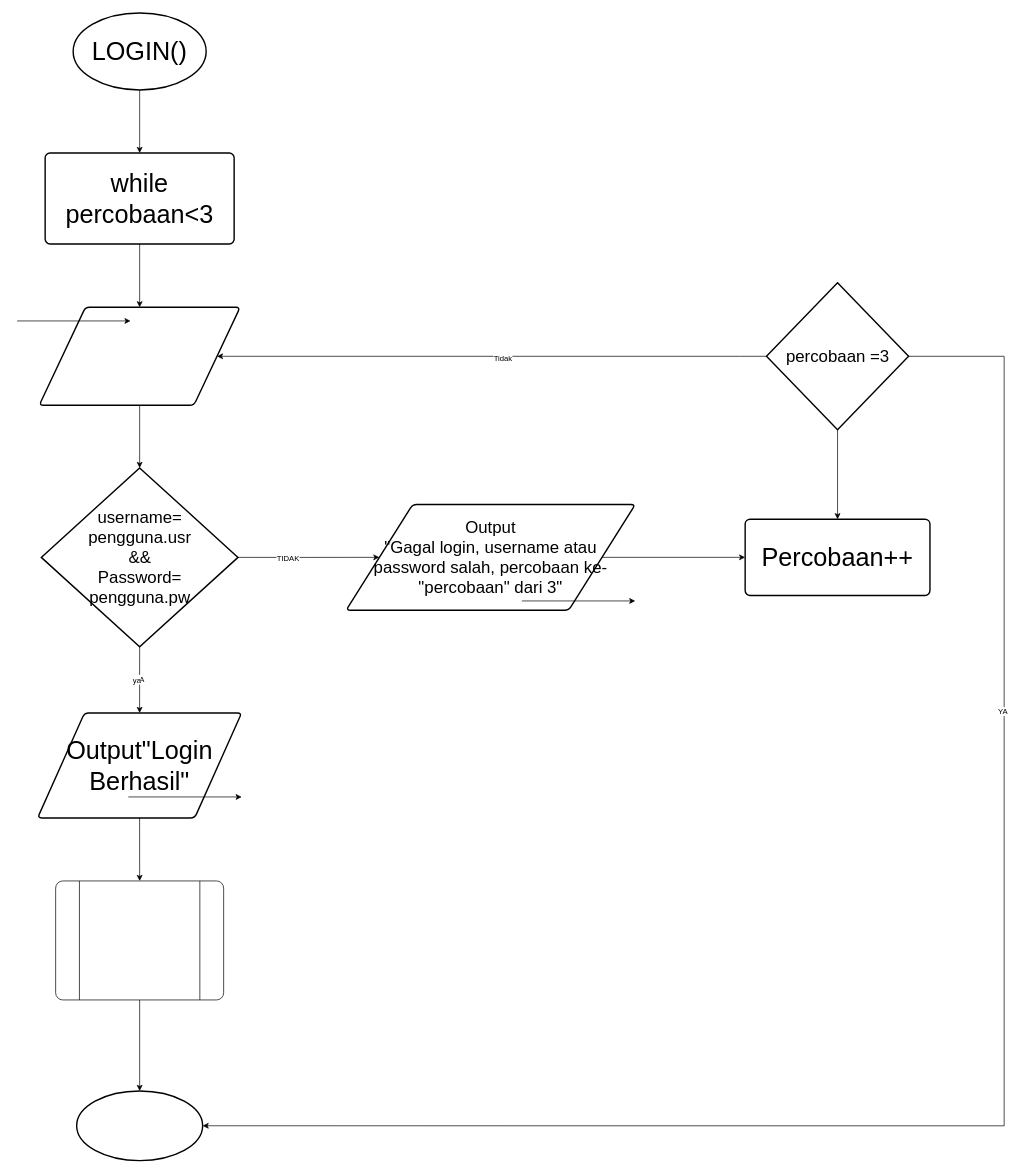
Image size: 1022x1173. Some labels were removed from this diagram. Each missing label, with the box of its shape:
end: (76, 1090, 203, 1161)
Input Username & Password: (38, 306, 240, 406)
menu koleksi: (55, 880, 224, 1000)
